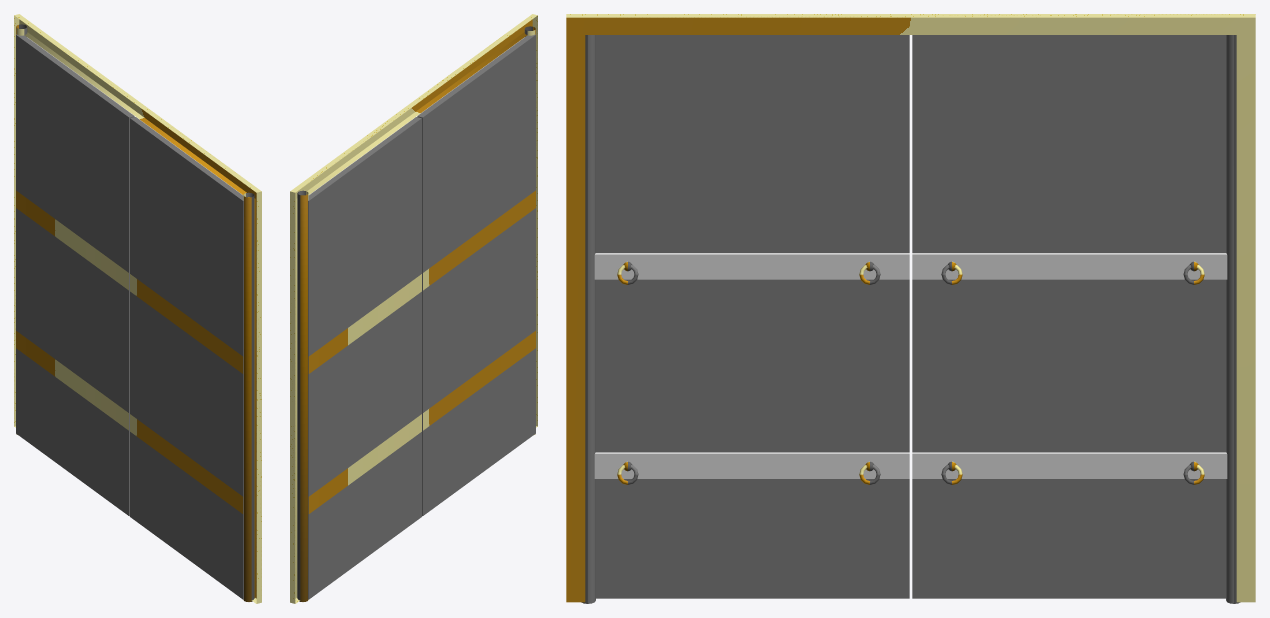
The model's file is SM_Doors.fbx.
The picture shows the model from 3 angles, left to right: view 1: azimuth 30°, elevation 25°; view 2: azimuth 150°, elevation 25°; view 3: azimuth 270°, elevation 25°; orthographic projection. The views are drawn at different scales.
Visible parts, largest first — view 1: SM_Door2; view 2: SM_Door2; view 3: SM_Door2.
Boxes of the visible parts, left/top/right/bottom form: SM_Door2: left=14, top=14, right=261, bottom=603; SM_Door2: left=290, top=14, right=537, bottom=603; SM_Door2: left=566, top=14, right=1255, bottom=603.
Bounding box in the file's own units: 31.1 × 741 × 790.
